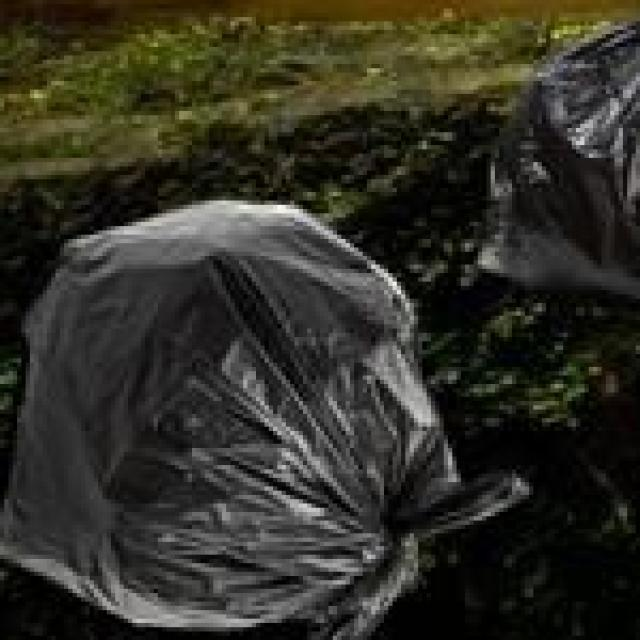Trashbag: (0, 187, 537, 640)
